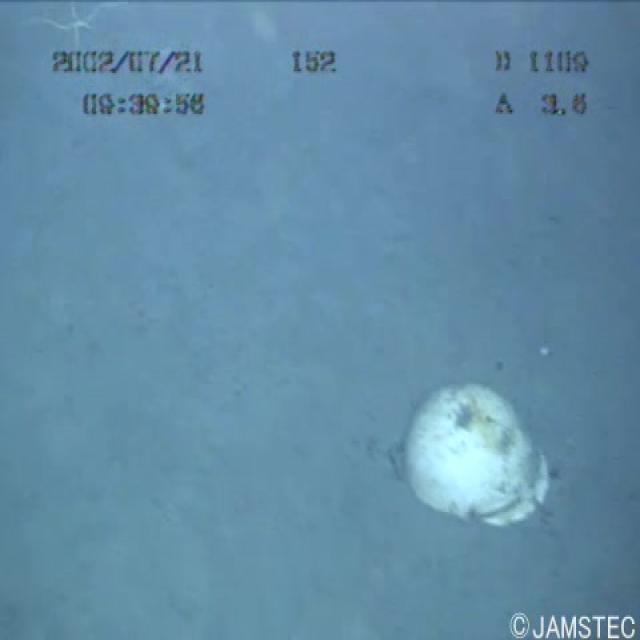plastic: (374, 363, 566, 542)
